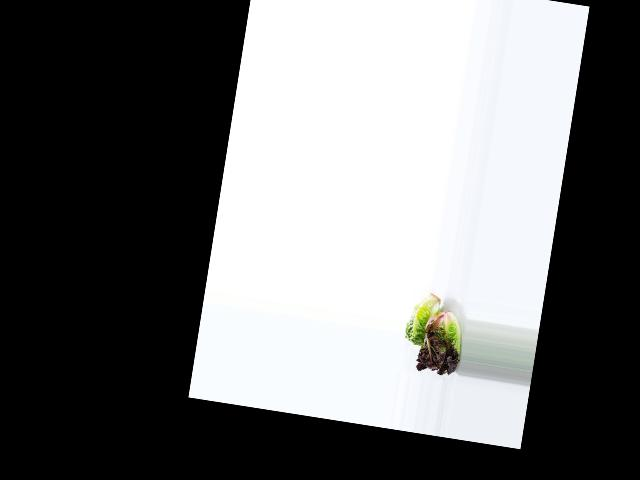lettuce: (402, 288, 444, 349)
